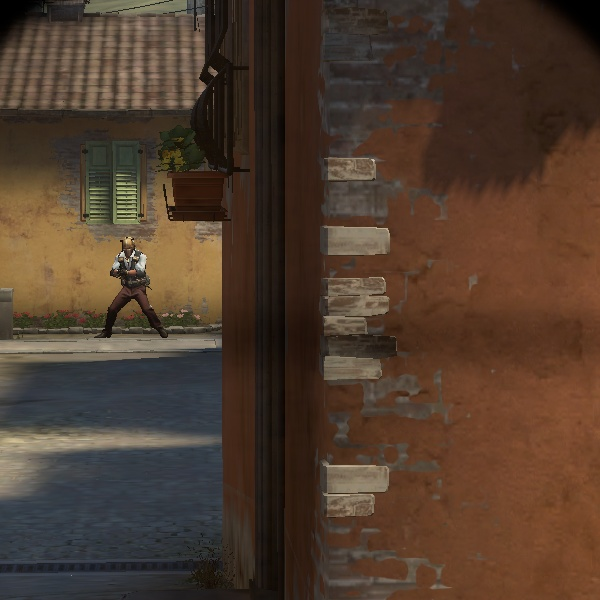t_body: (99, 234, 160, 338)
